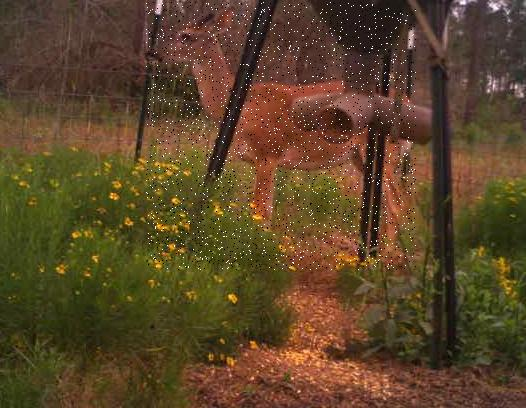Deer: (146, 2, 416, 270)
